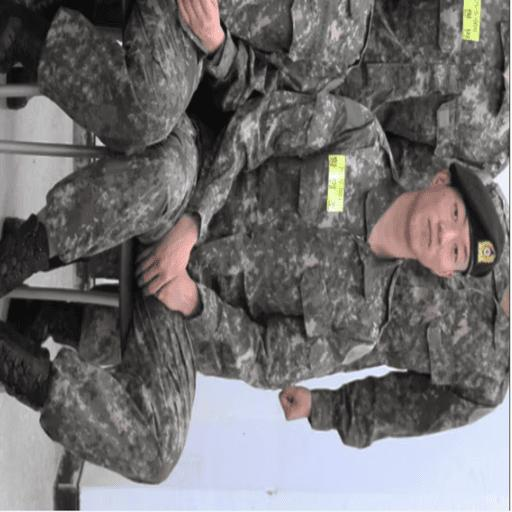korea army: (4, 108, 494, 480), (0, 0, 359, 96), (390, 170, 509, 448), (334, 0, 509, 171)
